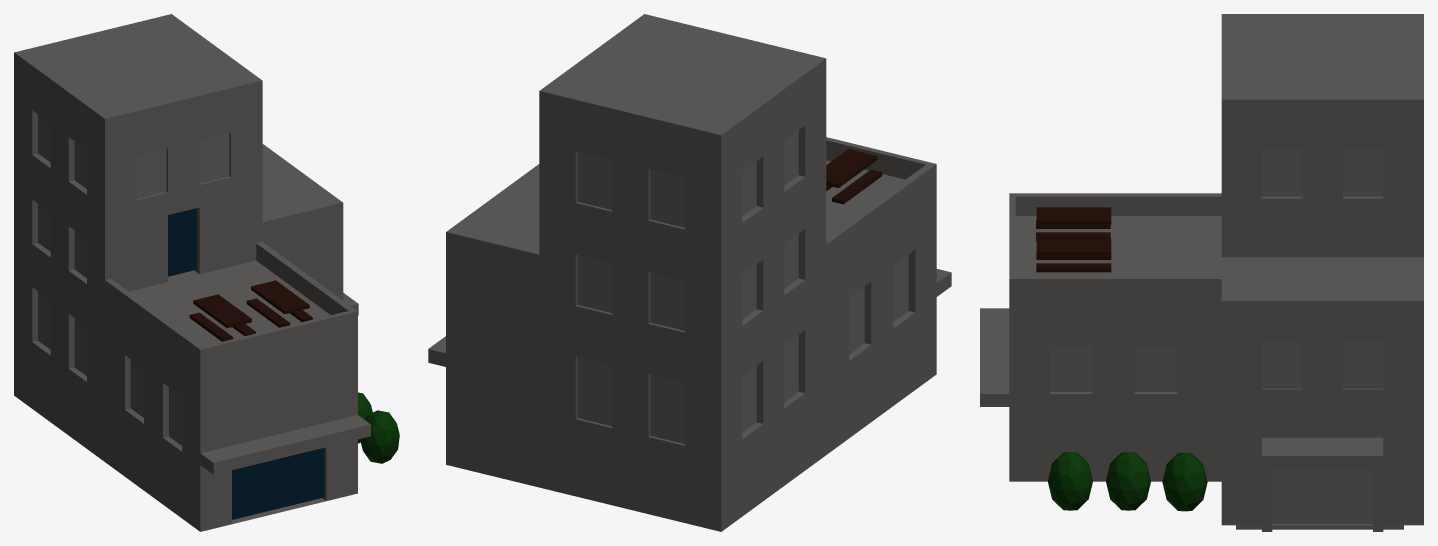
File: BuildingC_02.fbx
The picture shows the model from 3 angles, left to right: view 1: azimuth 30°, elevation 25°; view 2: azimuth 150°, elevation 25°; view 3: azimuth 270°, elevation 25°; orthographic projection. The views are drawn at different scales.
Parts seen in each view (by area): view 1: Arbre_01; view 2: Arbre_01; view 3: Arbre_01.
Boxes of the visible parts, left/top/right/bottom form: Arbre_01: left=14, top=14, right=399, bottom=531; Arbre_01: left=428, top=14, right=951, bottom=531; Arbre_01: left=980, top=14, right=1423, bottom=531.
Size of the model in its own units: 2170 by 2657 by 2757.
